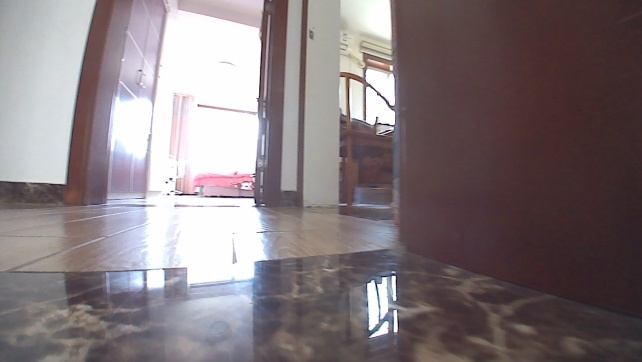bed1: (190, 169, 256, 199)
